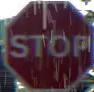Stop: (6, 0, 93, 91)
